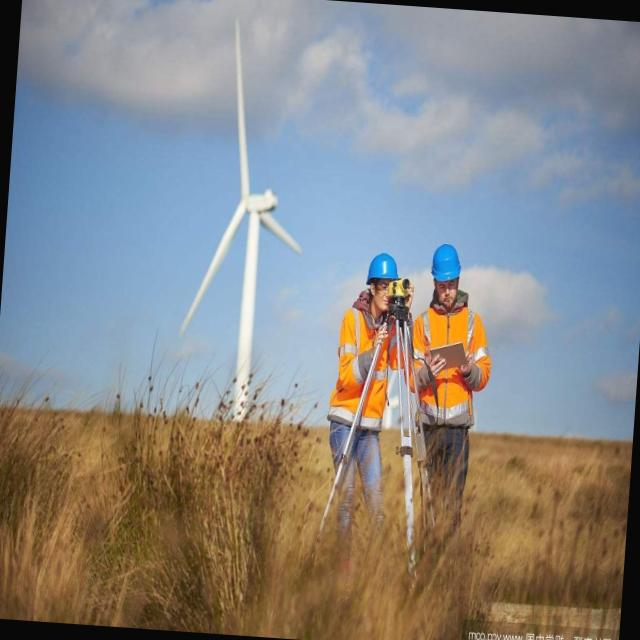helmet: (428, 238, 463, 286), (365, 250, 403, 291)
vest: (411, 296, 496, 431), (330, 312, 400, 438)
